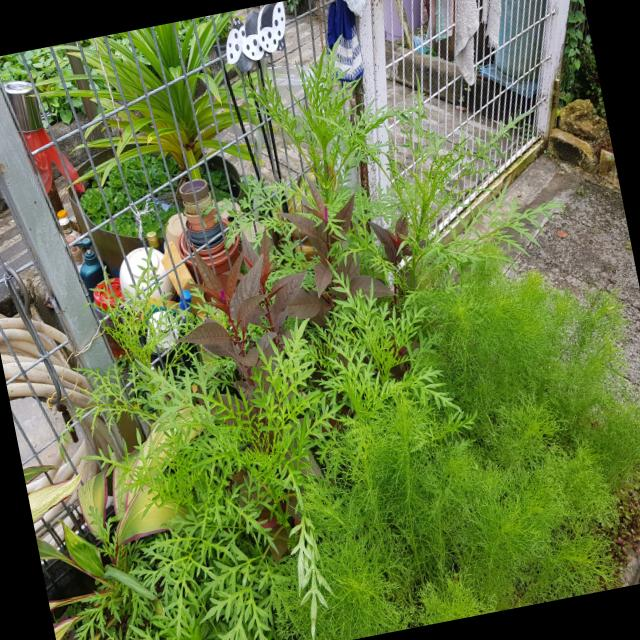Dill: (399, 244, 626, 615)
